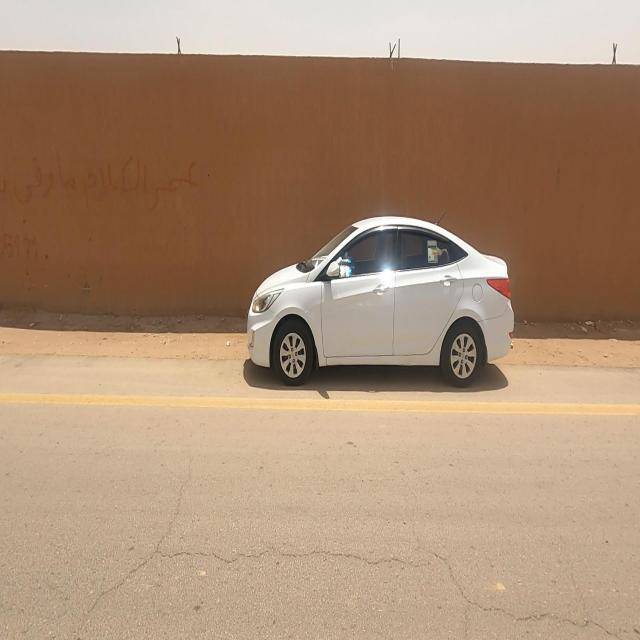Graffiti: (1, 152, 201, 209), (3, 229, 49, 271)
